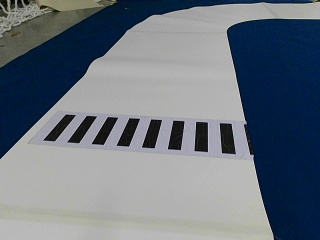crosswalk: (46, 116, 251, 156)
